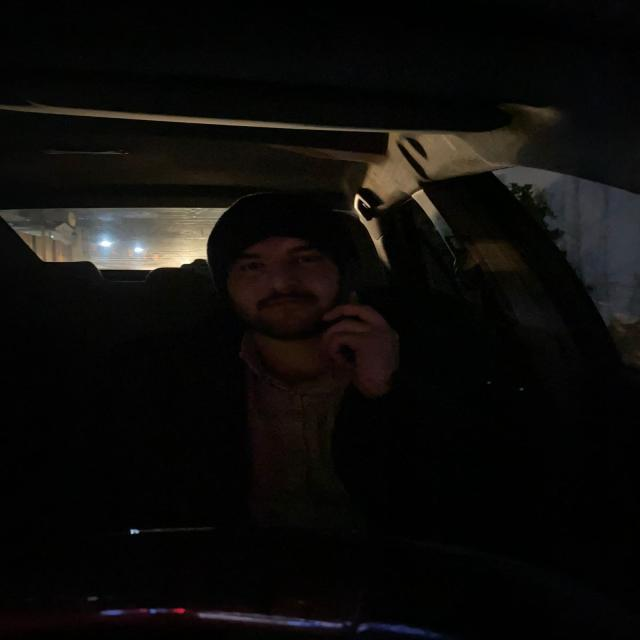phone: (336, 284, 376, 369)
